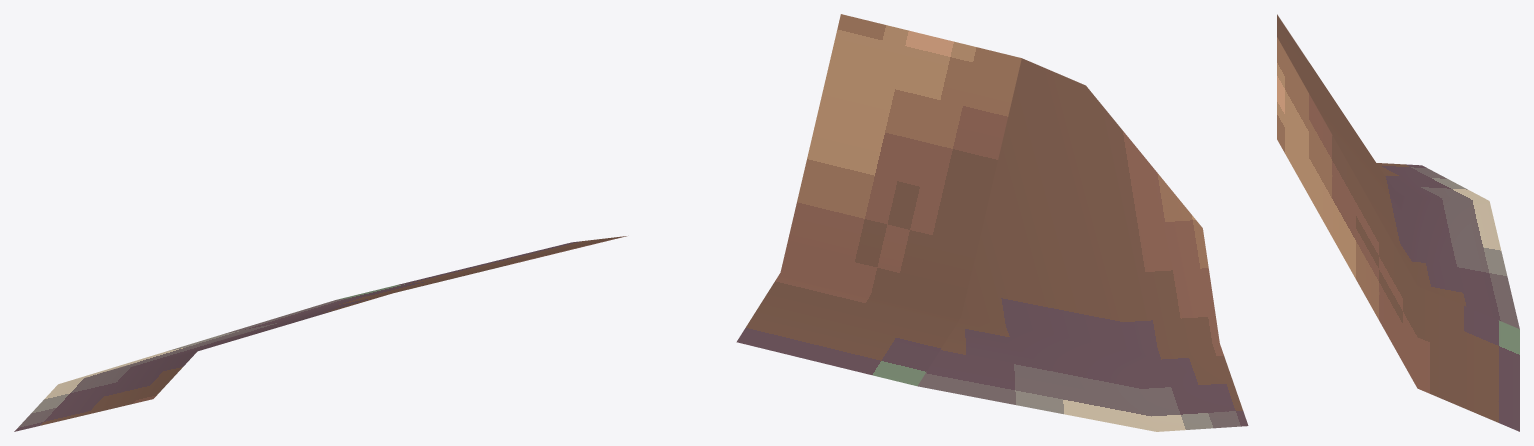
The picture shows the model from 3 angles, left to right: view 1: azimuth 30°, elevation 25°; view 2: azimuth 150°, elevation 25°; view 3: azimuth 270°, elevation 25°; orthographic projection. The views are drawn at different scales.
Bounding box in the file's own units: 1.3 × 0.6645 × 0.5.
2 materials, 2 textured.
